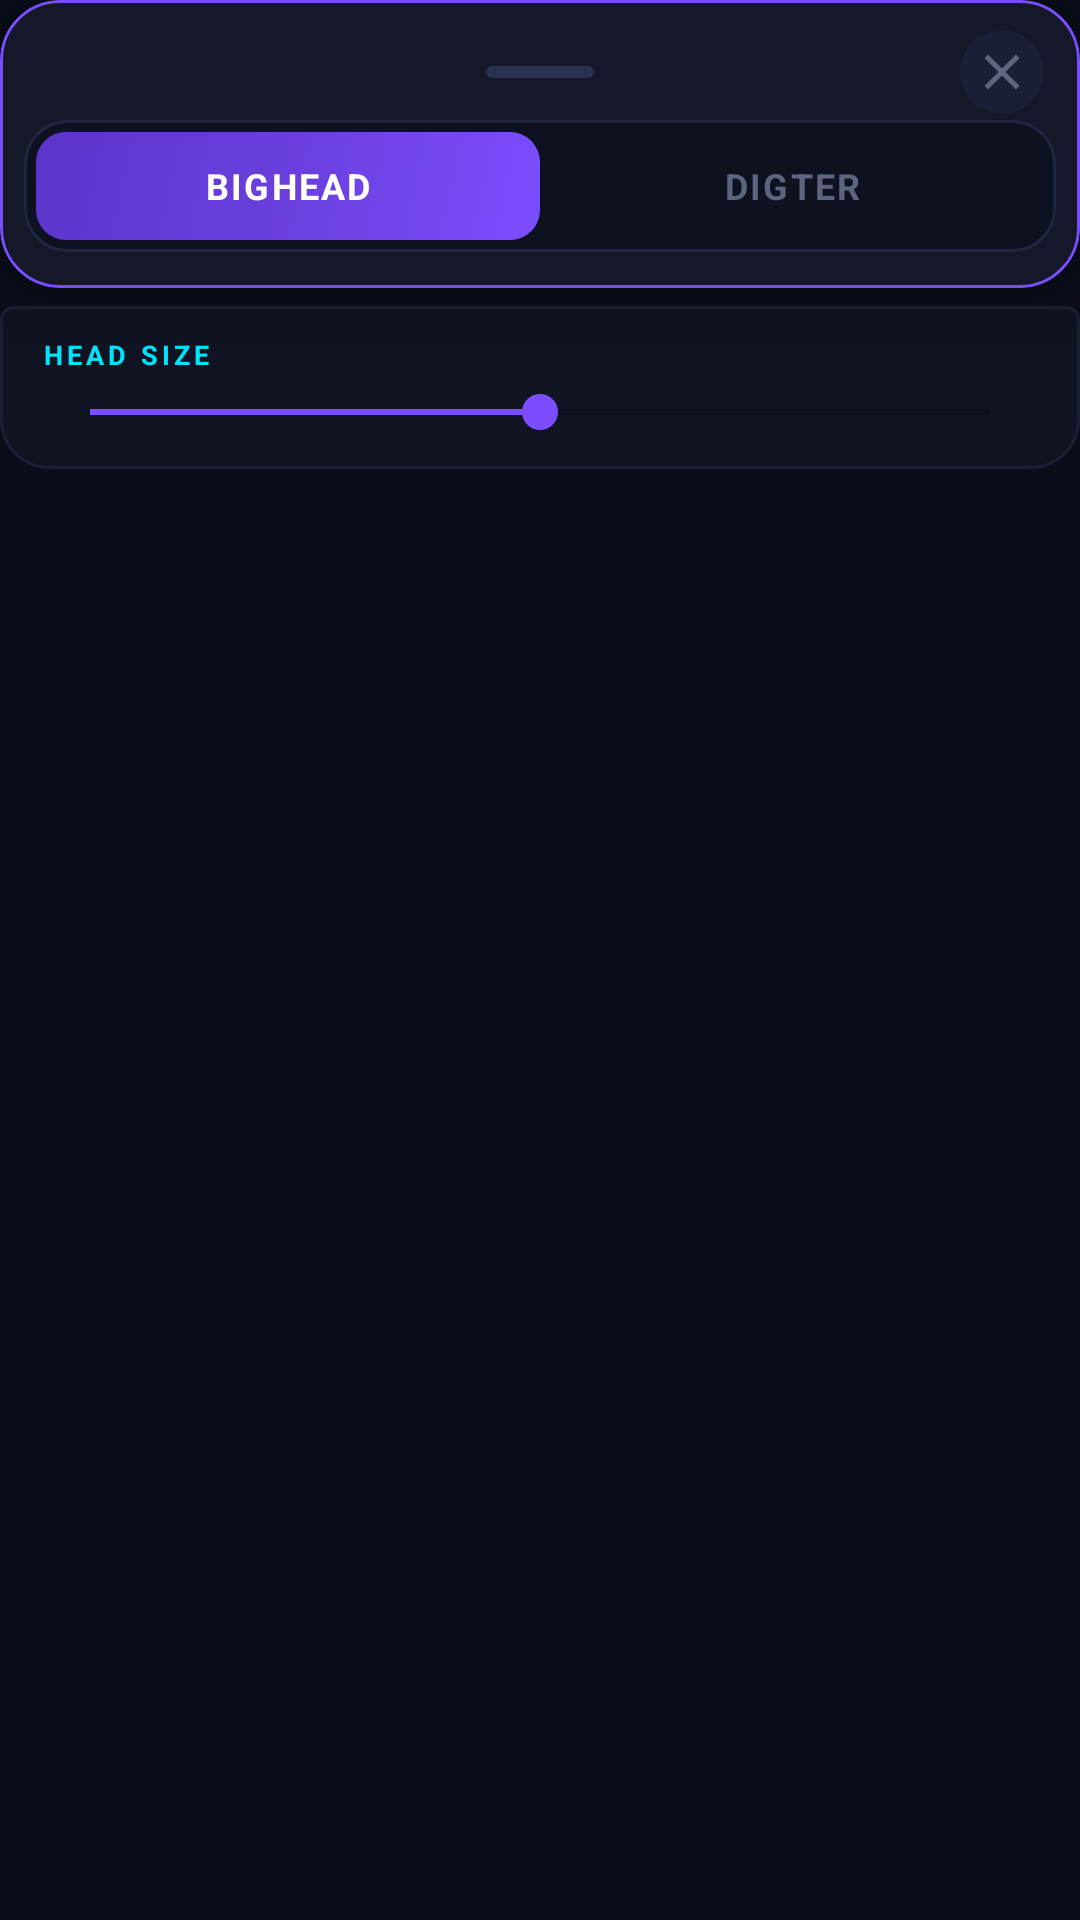

Locate icon controls on the screen. Image size 1080*1920, boxes as (x1, y1, x2, y2).
close: (960, 30, 1044, 114)
